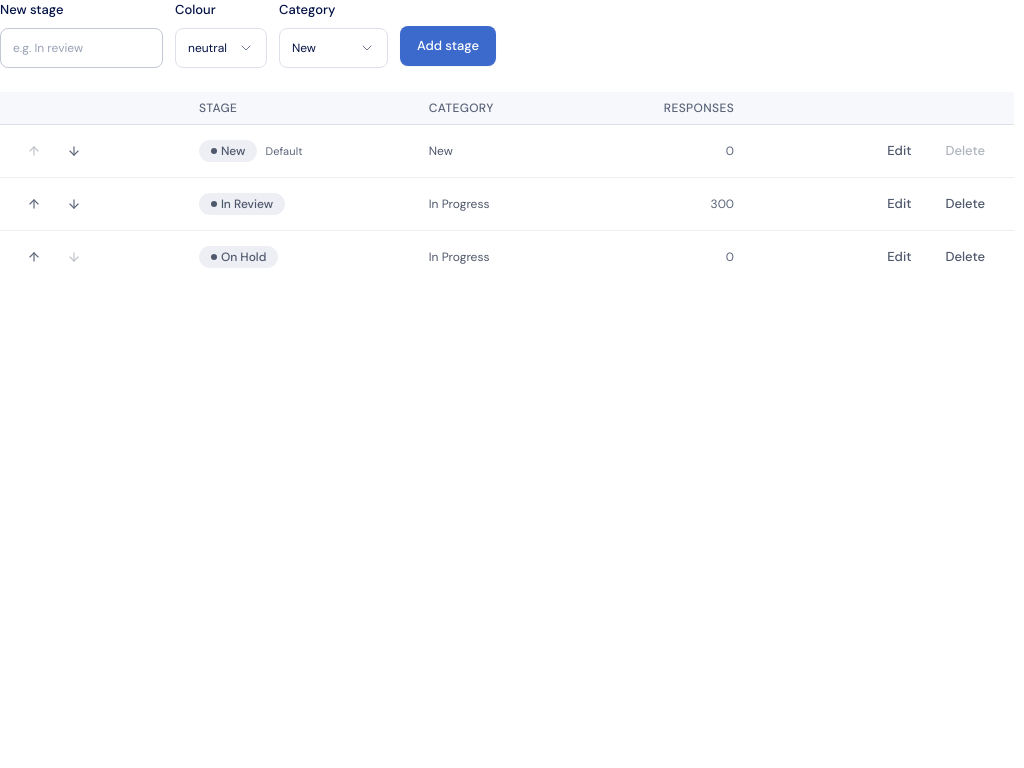
StageManager › tells the person how many responses a stage holds before it can be deleted, and asks where to move them
This screenshot has width=1024, height=768.
Click the button "Delete" in the row of "In Review": [965, 204] box [932, 188, 998, 220]
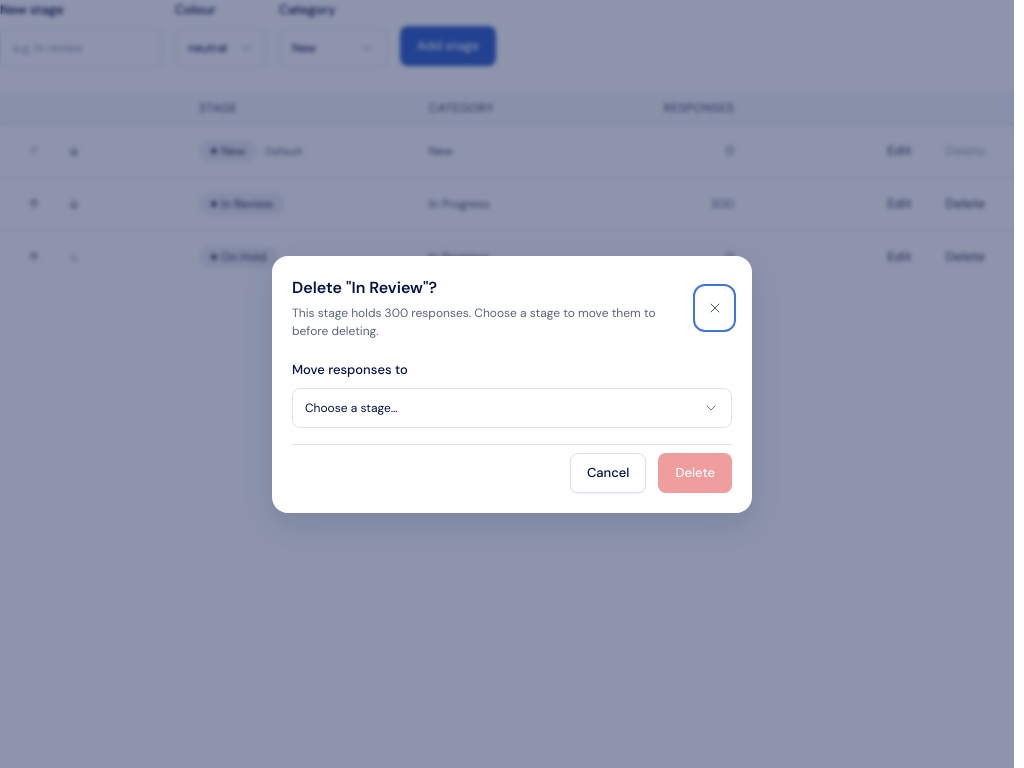
Now the text "This stage holds 300 responses" is shown, box [292, 304, 656, 338]
